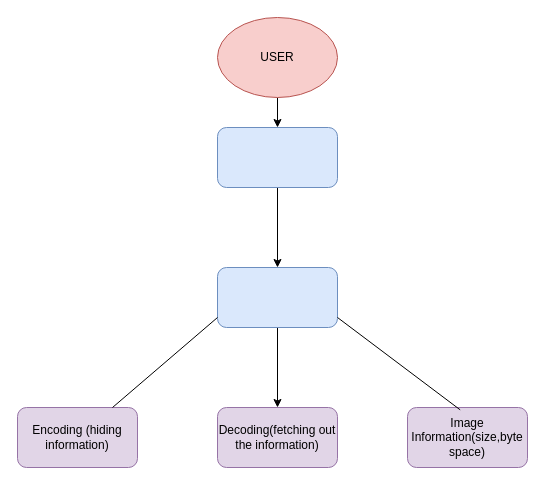
The diagram is 545 pixels wide and 485 high, and some of its shapes have lost their labels. Each missing label, with the box of its shape:
Buttons: (216, 266, 338, 328)
GUI: (216, 126, 338, 188)
